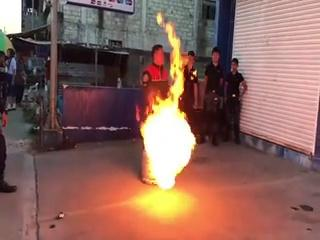Fire: (140, 15, 193, 186)
